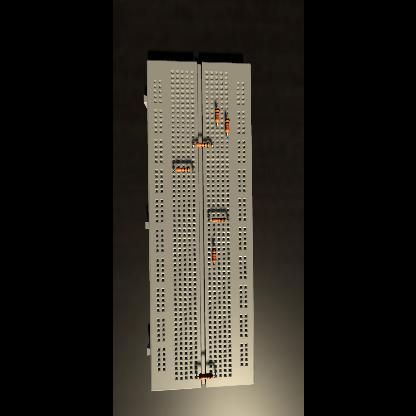breadboard: (144, 60, 254, 392)
resistor: (198, 372, 212, 380), (195, 142, 209, 147), (225, 118, 229, 132), (215, 108, 219, 122), (212, 218, 226, 222), (212, 248, 216, 262), (175, 168, 189, 172)
wire: (212, 370, 216, 376), (196, 371, 198, 377), (216, 122, 218, 127), (212, 244, 214, 249), (208, 219, 212, 221), (225, 132, 226, 138), (209, 145, 212, 147), (193, 144, 195, 147), (226, 219, 228, 221), (226, 116, 228, 118), (216, 106, 218, 108), (190, 170, 192, 172), (173, 170, 175, 172), (213, 262, 214, 264)
